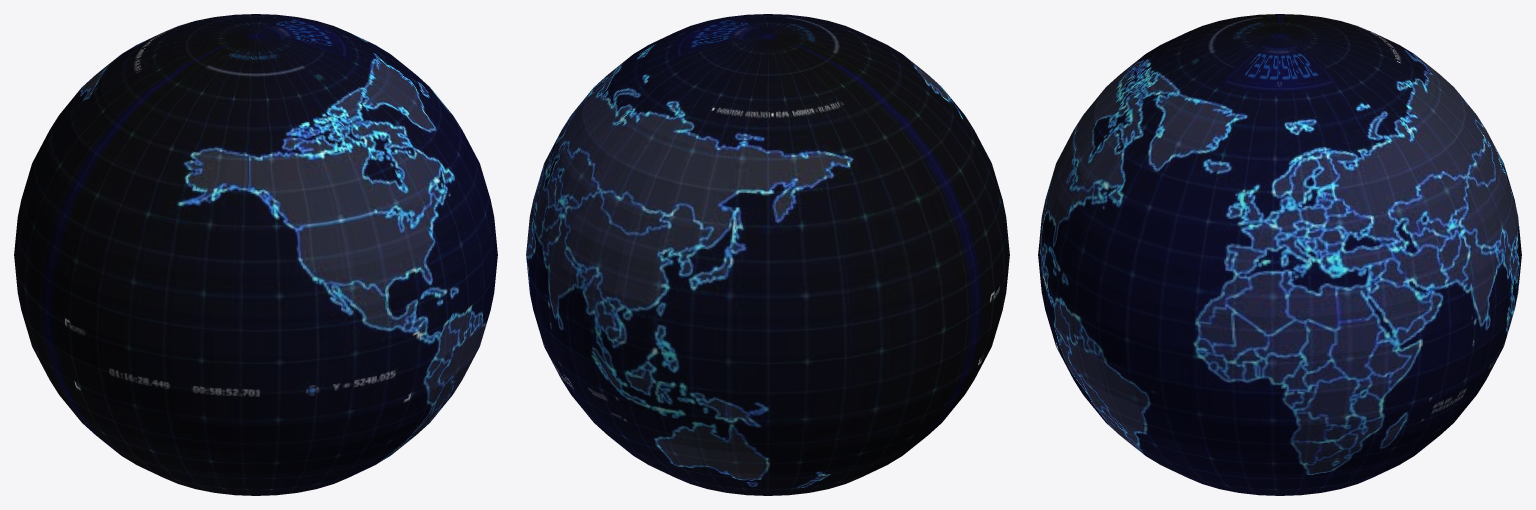
File: darkearth.glb
3 views of the same model, side by side, from view 1: azimuth 30°, elevation 25°; view 2: azimuth 150°, elevation 25°; view 3: azimuth 270°, elevation 25° (orthographic).
Visible parts, largest first — view 1: Sphere; view 2: Sphere; view 3: Sphere.
Boxes of the visible parts, x1,y1,x2,y2 form: Sphere: (14, 14, 497, 495); Sphere: (526, 14, 1009, 495); Sphere: (1038, 14, 1521, 495).
Bounding box in the file's own units: 9.6 × 9.6 × 9.6.
Materials: 2 (1 with a texture image).
